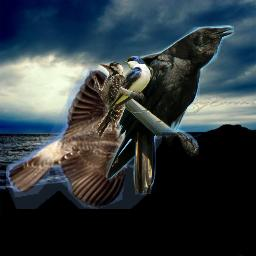Crow: (106, 25, 234, 196)
Swallow: (6, 67, 162, 209), (108, 55, 153, 111)
Woodpecker: (92, 60, 129, 142)
